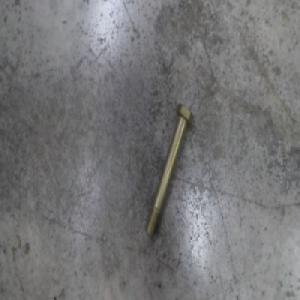Bolt: (145, 103, 194, 238)
